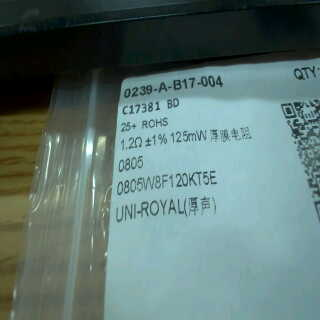1.2R: (114, 136, 147, 167)
